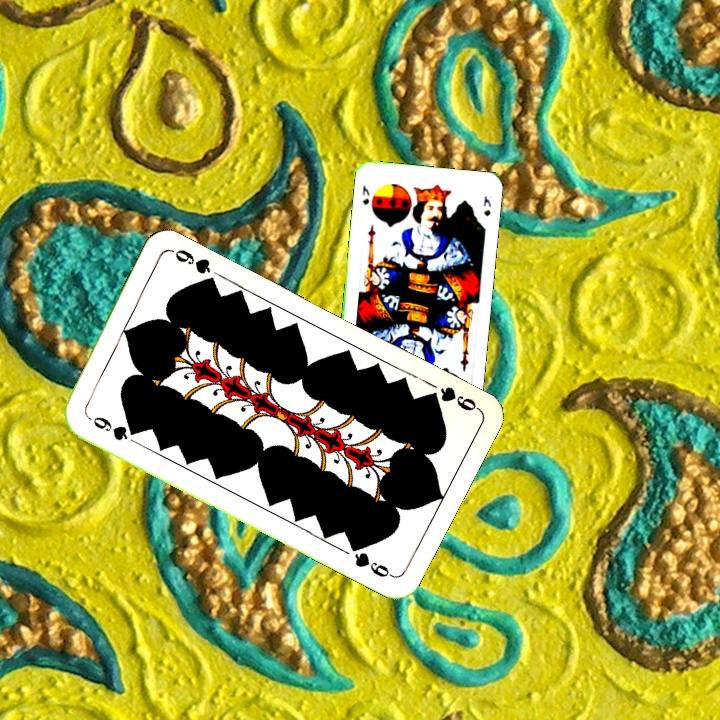G9: (421, 382, 481, 414), (83, 411, 140, 443)
SK: (358, 181, 372, 207)
